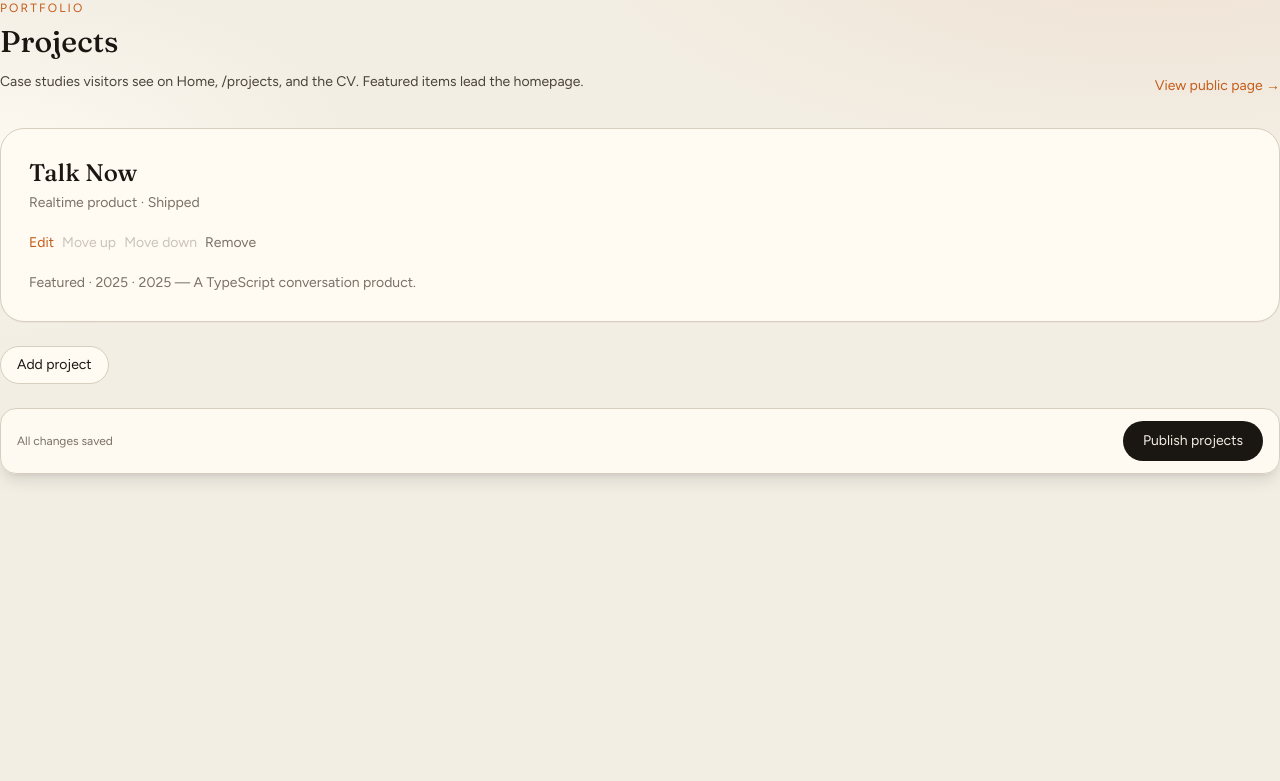
Test case: AdminProjectsPage › blocks publish when a title is missing
Expected: the heading "Projects" is shown, 0,23 -> 118,60
Click the button "Edit". click: [42, 243]
box: 29,233 -> 54,253
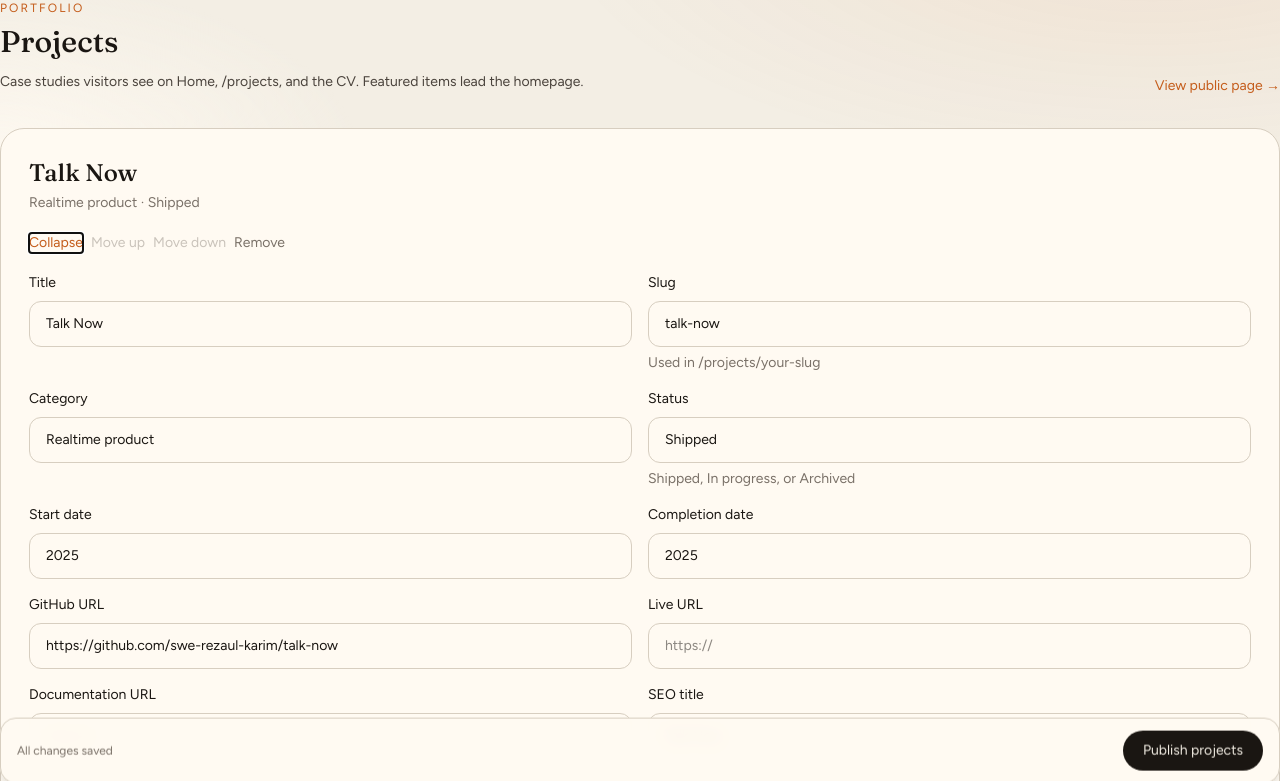
Expected: the field labelled "Title" is shown
Clear the field labelled "Title". click: [330, 324]
box: 29,301 -> 632,347
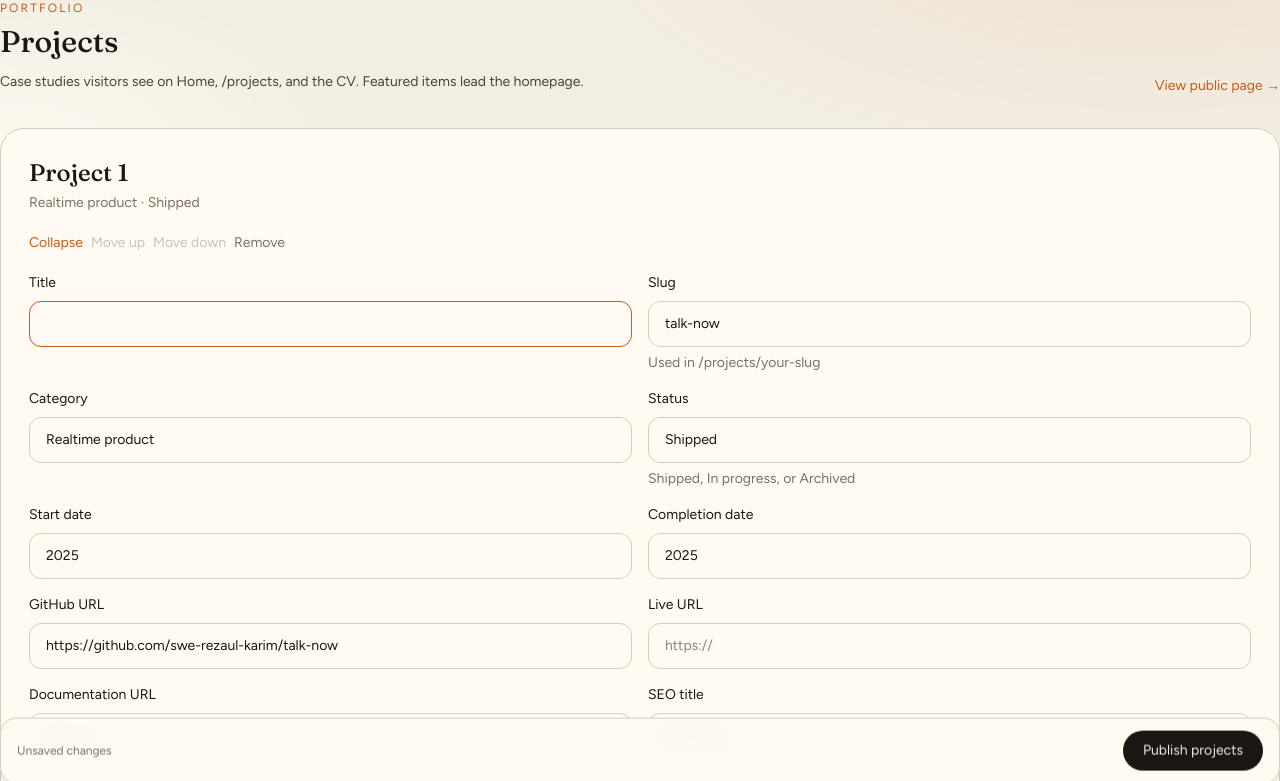
Click the button "Publish projects". click: [1193, 751]
box: 1123,731 -> 1263,771
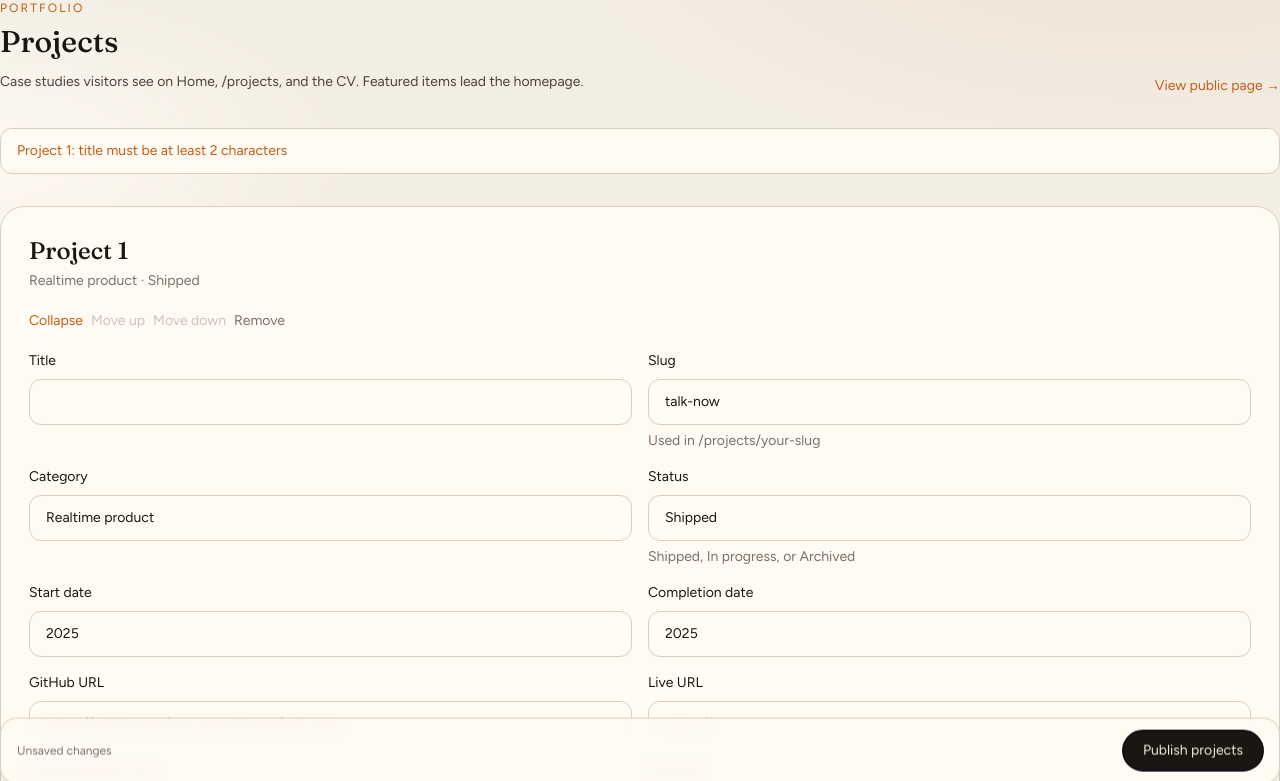
Expected: the message shows "title must be at least 2 characters", 17,142 -> 287,159
